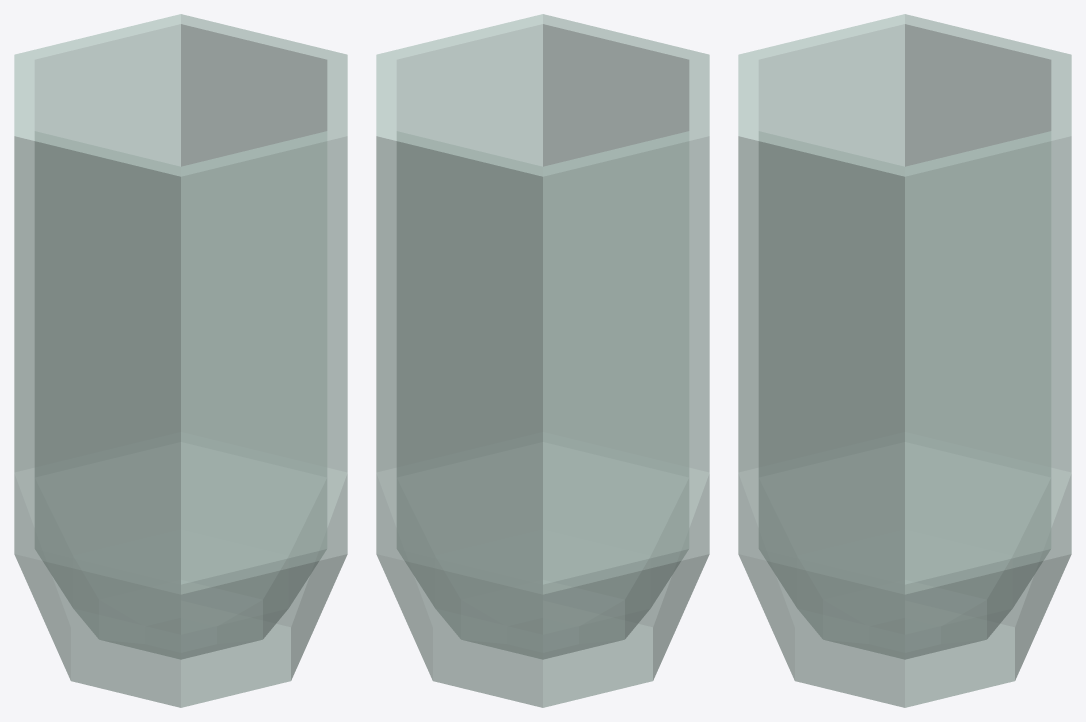
Rendered from VASO ALTO.fbx.
3 views of the same model, side by side, from view 1: azimuth 30°, elevation 25°; view 2: azimuth 150°, elevation 25°; view 3: azimuth 270°, elevation 25° (orthographic).
Visible parts, largest first — view 1: Cylinder.027; view 2: Cylinder.027; view 3: Cylinder.027.
Boxes of the visible parts, x1,y1,x2,y2 form: Cylinder.027: [14, 14, 347, 707]; Cylinder.027: [376, 14, 709, 707]; Cylinder.027: [738, 14, 1071, 707].
Size of the model in its own units: 161 by 258 by 140.
